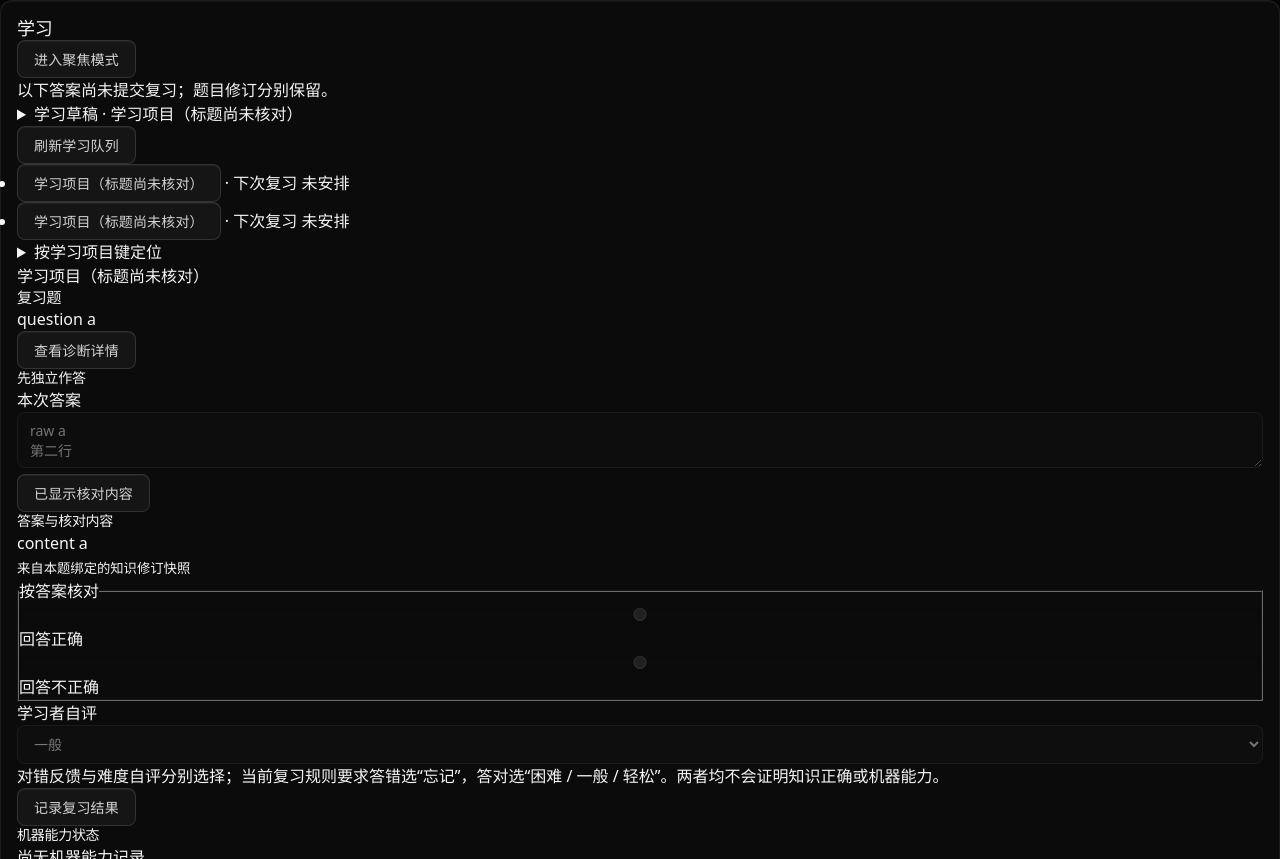
Test: reconciles two retained views of an explicitly preserved old-origin journal without replacing its request identity
The width and height of the screenshot is (1280, 859).
Click the button "记录复习结果" at (76, 807), box [17, 788, 136, 826]
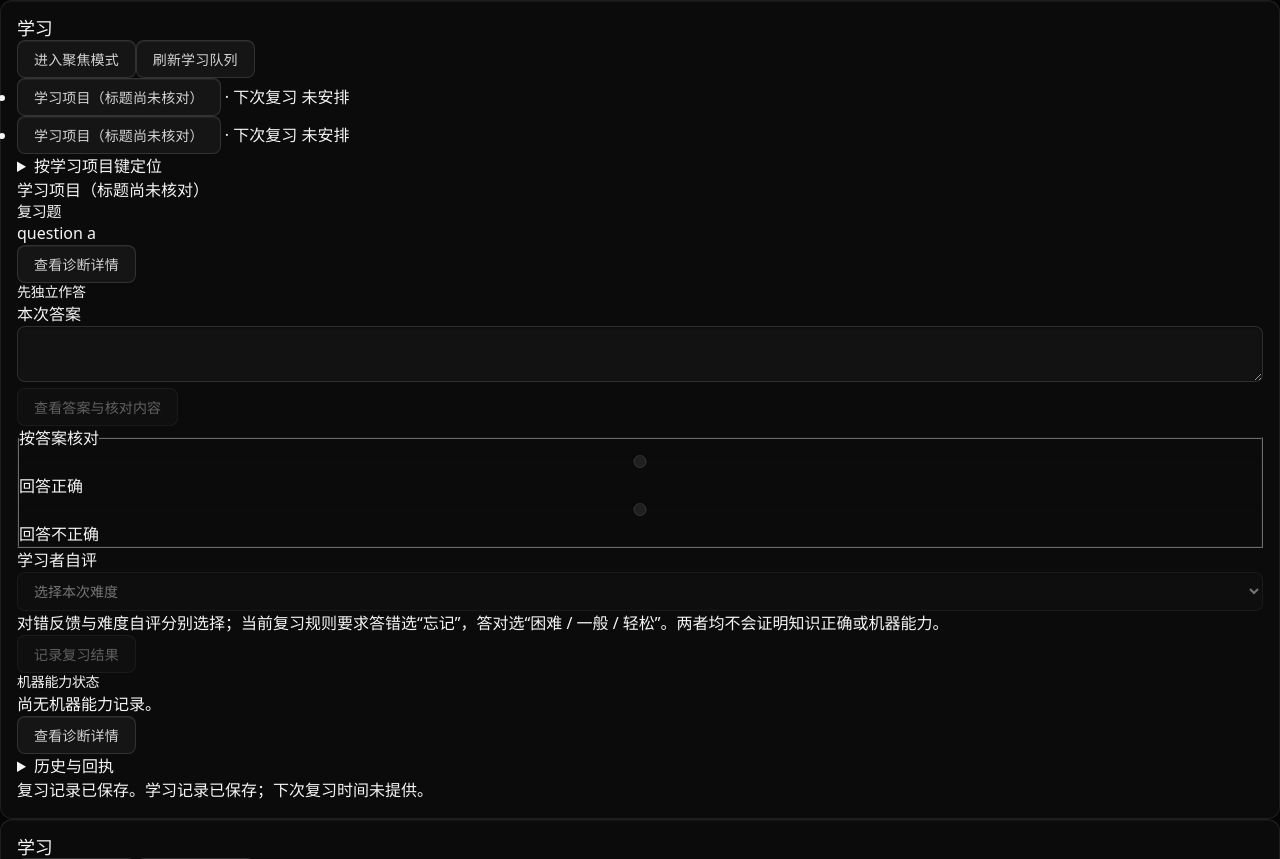
Result: the text "复习记录已保存。学习记录已保存；下次复习时间未提供。" is shown at [17, 779, 433, 801]
Result: the text box labelled "本次答案" is enabled at [17, 326, 1263, 382]
